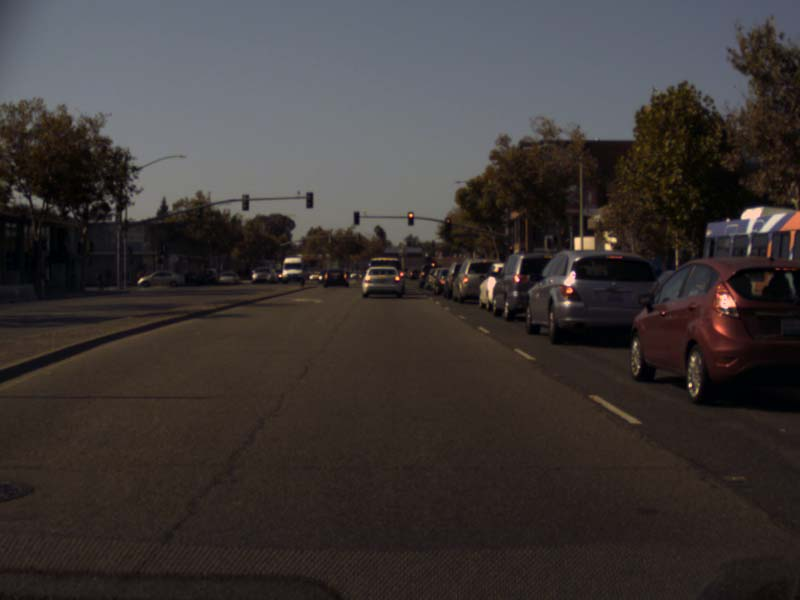Red: (407, 211, 414, 225), (445, 217, 450, 233), (509, 244, 513, 253)
